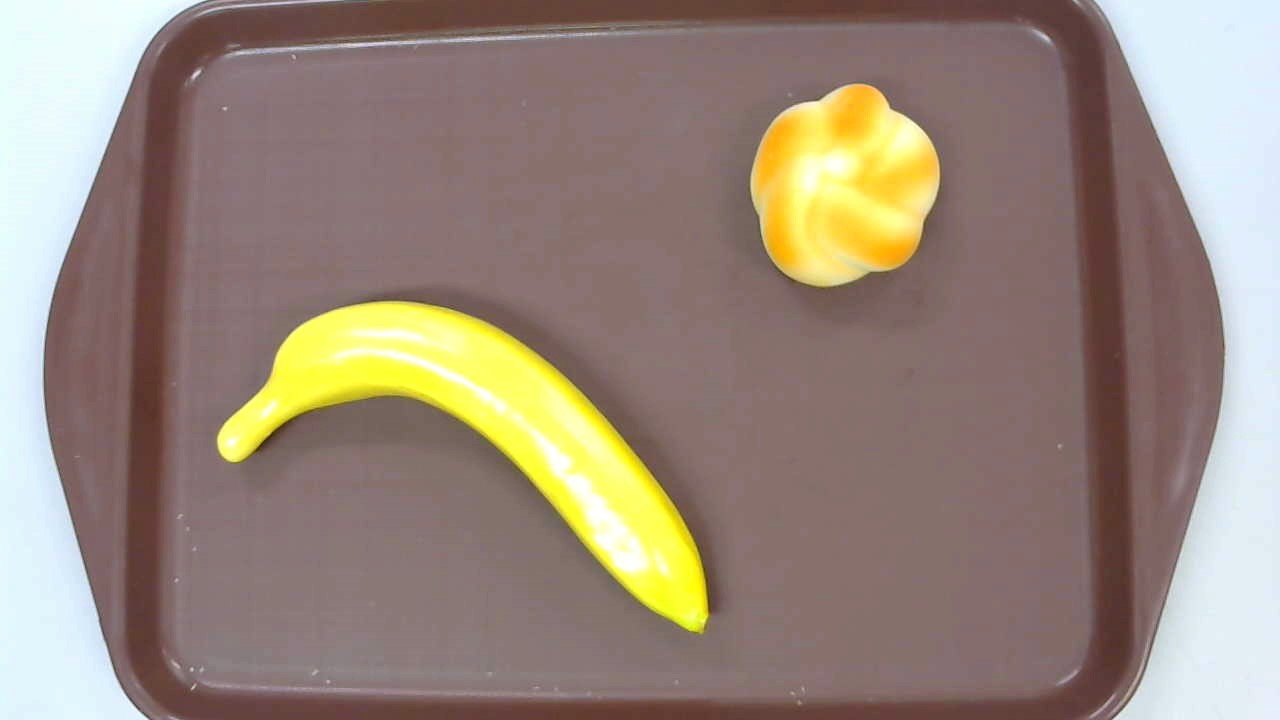banana: (216, 299, 709, 635)
twist bread: (750, 83, 940, 289)
